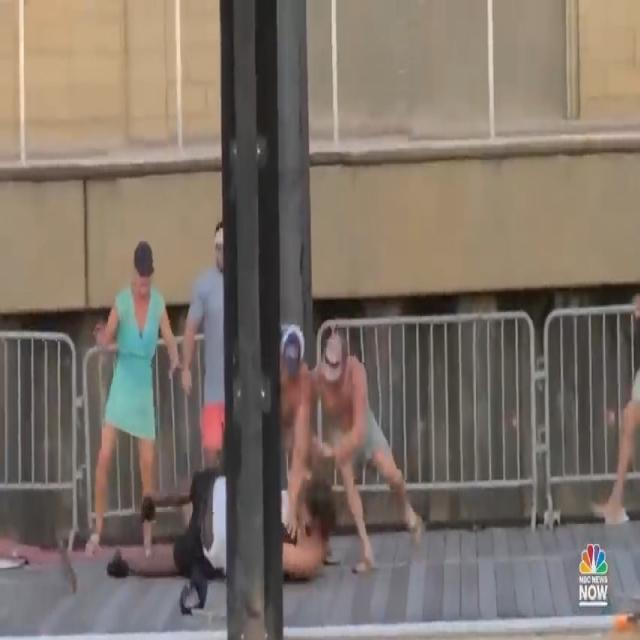fight: (79, 196, 436, 597)
